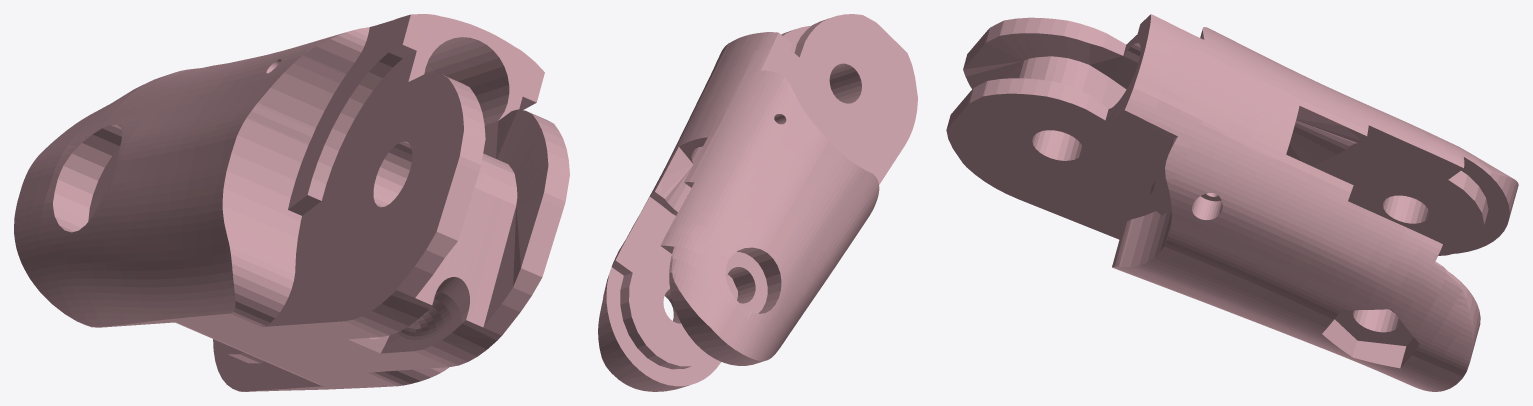
File: i02_leftHand_majeureMid_visual.obj
3 renders of one model, left to right at view 1: azimuth 30°, elevation 25°; view 2: azimuth 150°, elevation 25°; view 3: azimuth 270°, elevation 25°, orthographic. The views are drawn at different scales.
Visible parts, largest first — view 1: i02_leftHand_majeureMid_visual.001; view 2: i02_leftHand_majeureMid_visual.001; view 3: i02_leftHand_majeureMid_visual.001.
Boxes of the visible parts, box(x1,y1,x2,y2) form: i02_leftHand_majeureMid_visual.001: box(14, 14, 569, 391); i02_leftHand_majeureMid_visual.001: box(598, 14, 917, 391); i02_leftHand_majeureMid_visual.001: box(946, 14, 1518, 391).
Size of the model in its own units: 0.1774 by 0.2775 by 0.393.
